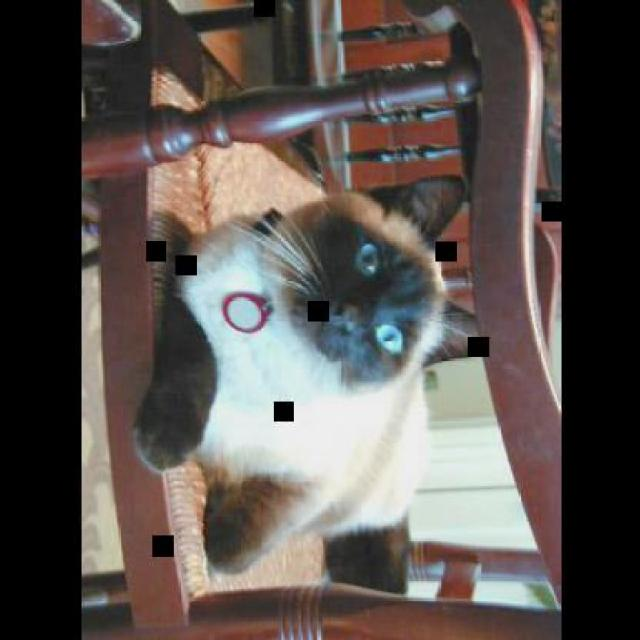unauthorized: (129, 171, 477, 594)
